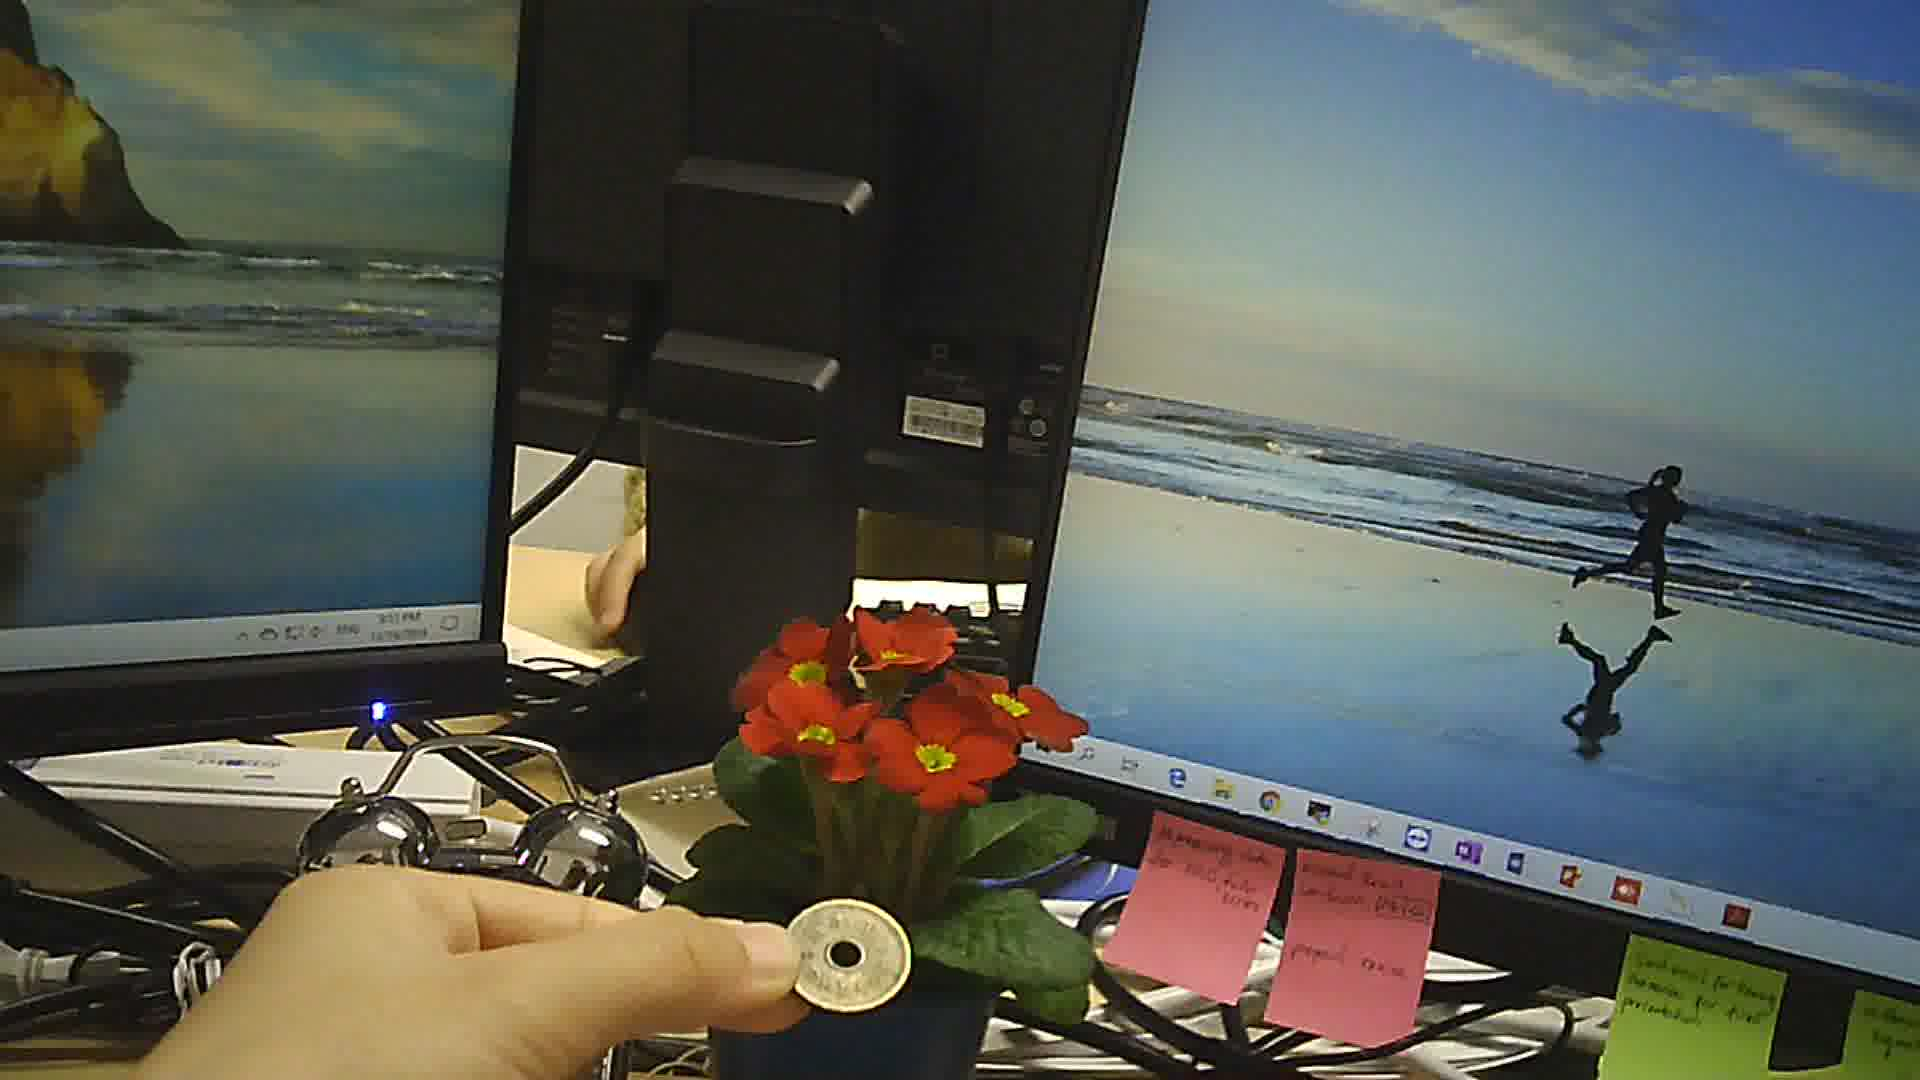5 Yen: (773, 887, 918, 1011)
